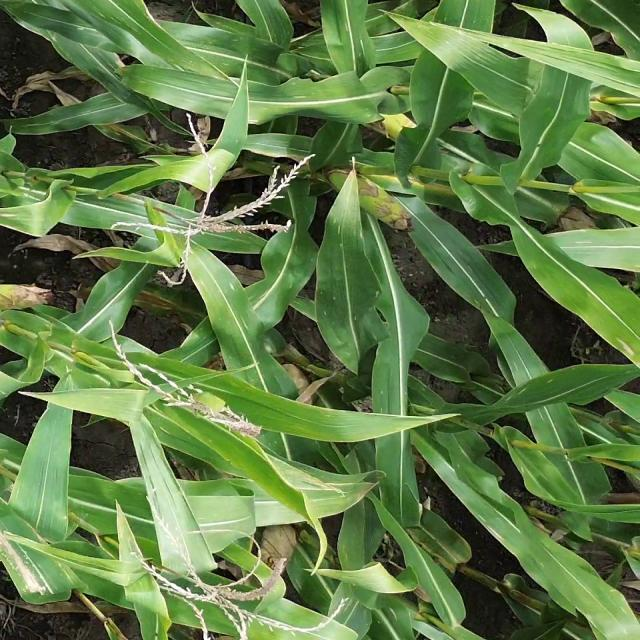gray-leaf-spot: (202, 275, 258, 336), (195, 30, 272, 71), (325, 198, 365, 260), (92, 0, 154, 37), (286, 558, 346, 594), (500, 374, 560, 406), (476, 507, 525, 542), (339, 20, 373, 61), (4, 204, 54, 228), (81, 98, 131, 113)
northern-leaf-blight: (381, 160, 464, 202), (0, 536, 56, 592)
southern-leaf-blight: (317, 277, 380, 331)
